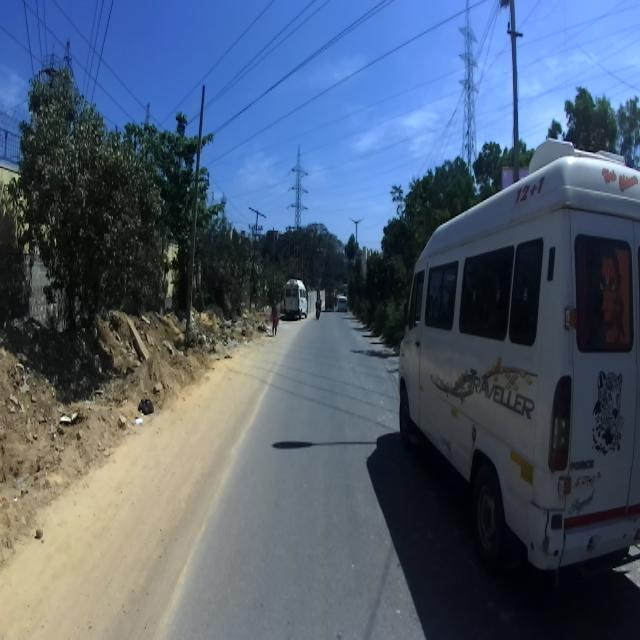bus ahead at: (408, 136, 640, 580)
electric pole ahead at: (178, 64, 215, 356)
tree ahead at: (22, 47, 168, 395)
